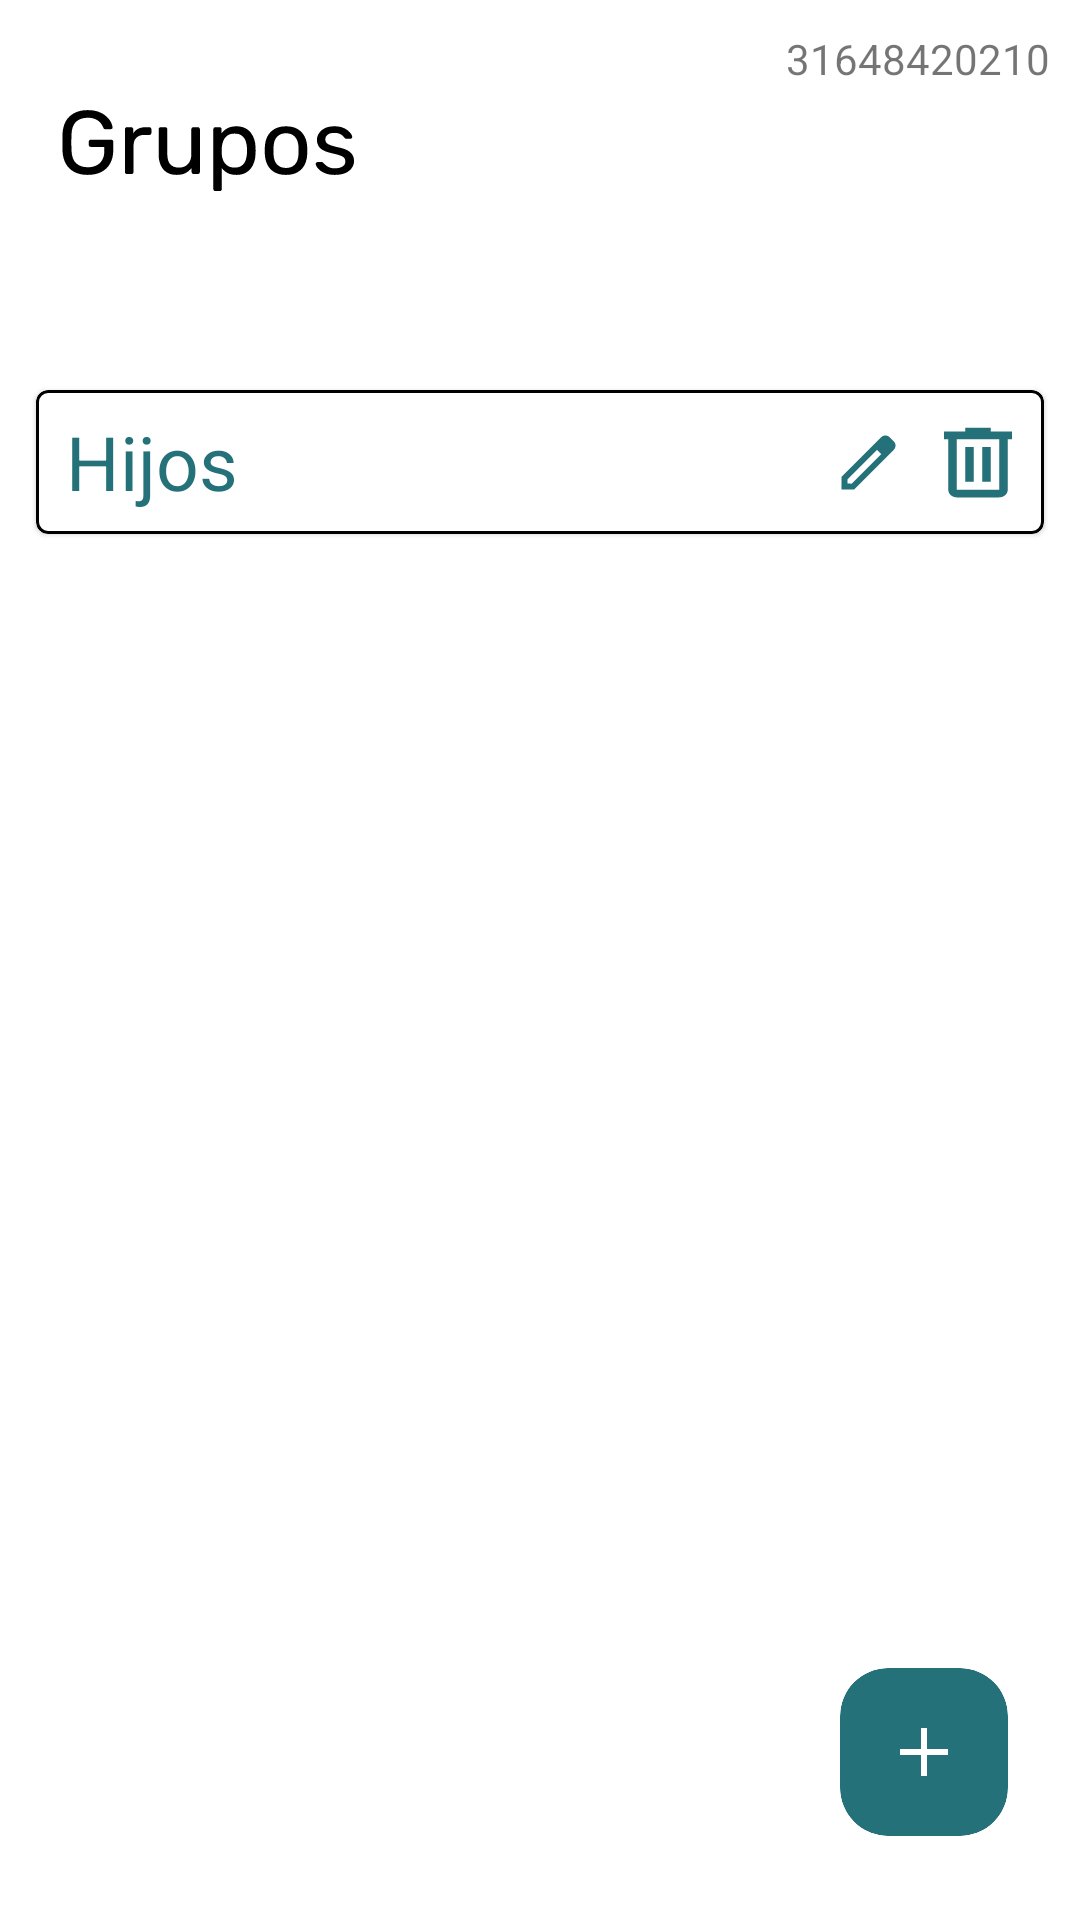

Named icons in this screenshot (1080*1920) and their centers, [x,y]:
Crear Grupo: [924,1752]
Eliminar: [978,462]
modificar: [868,462]
